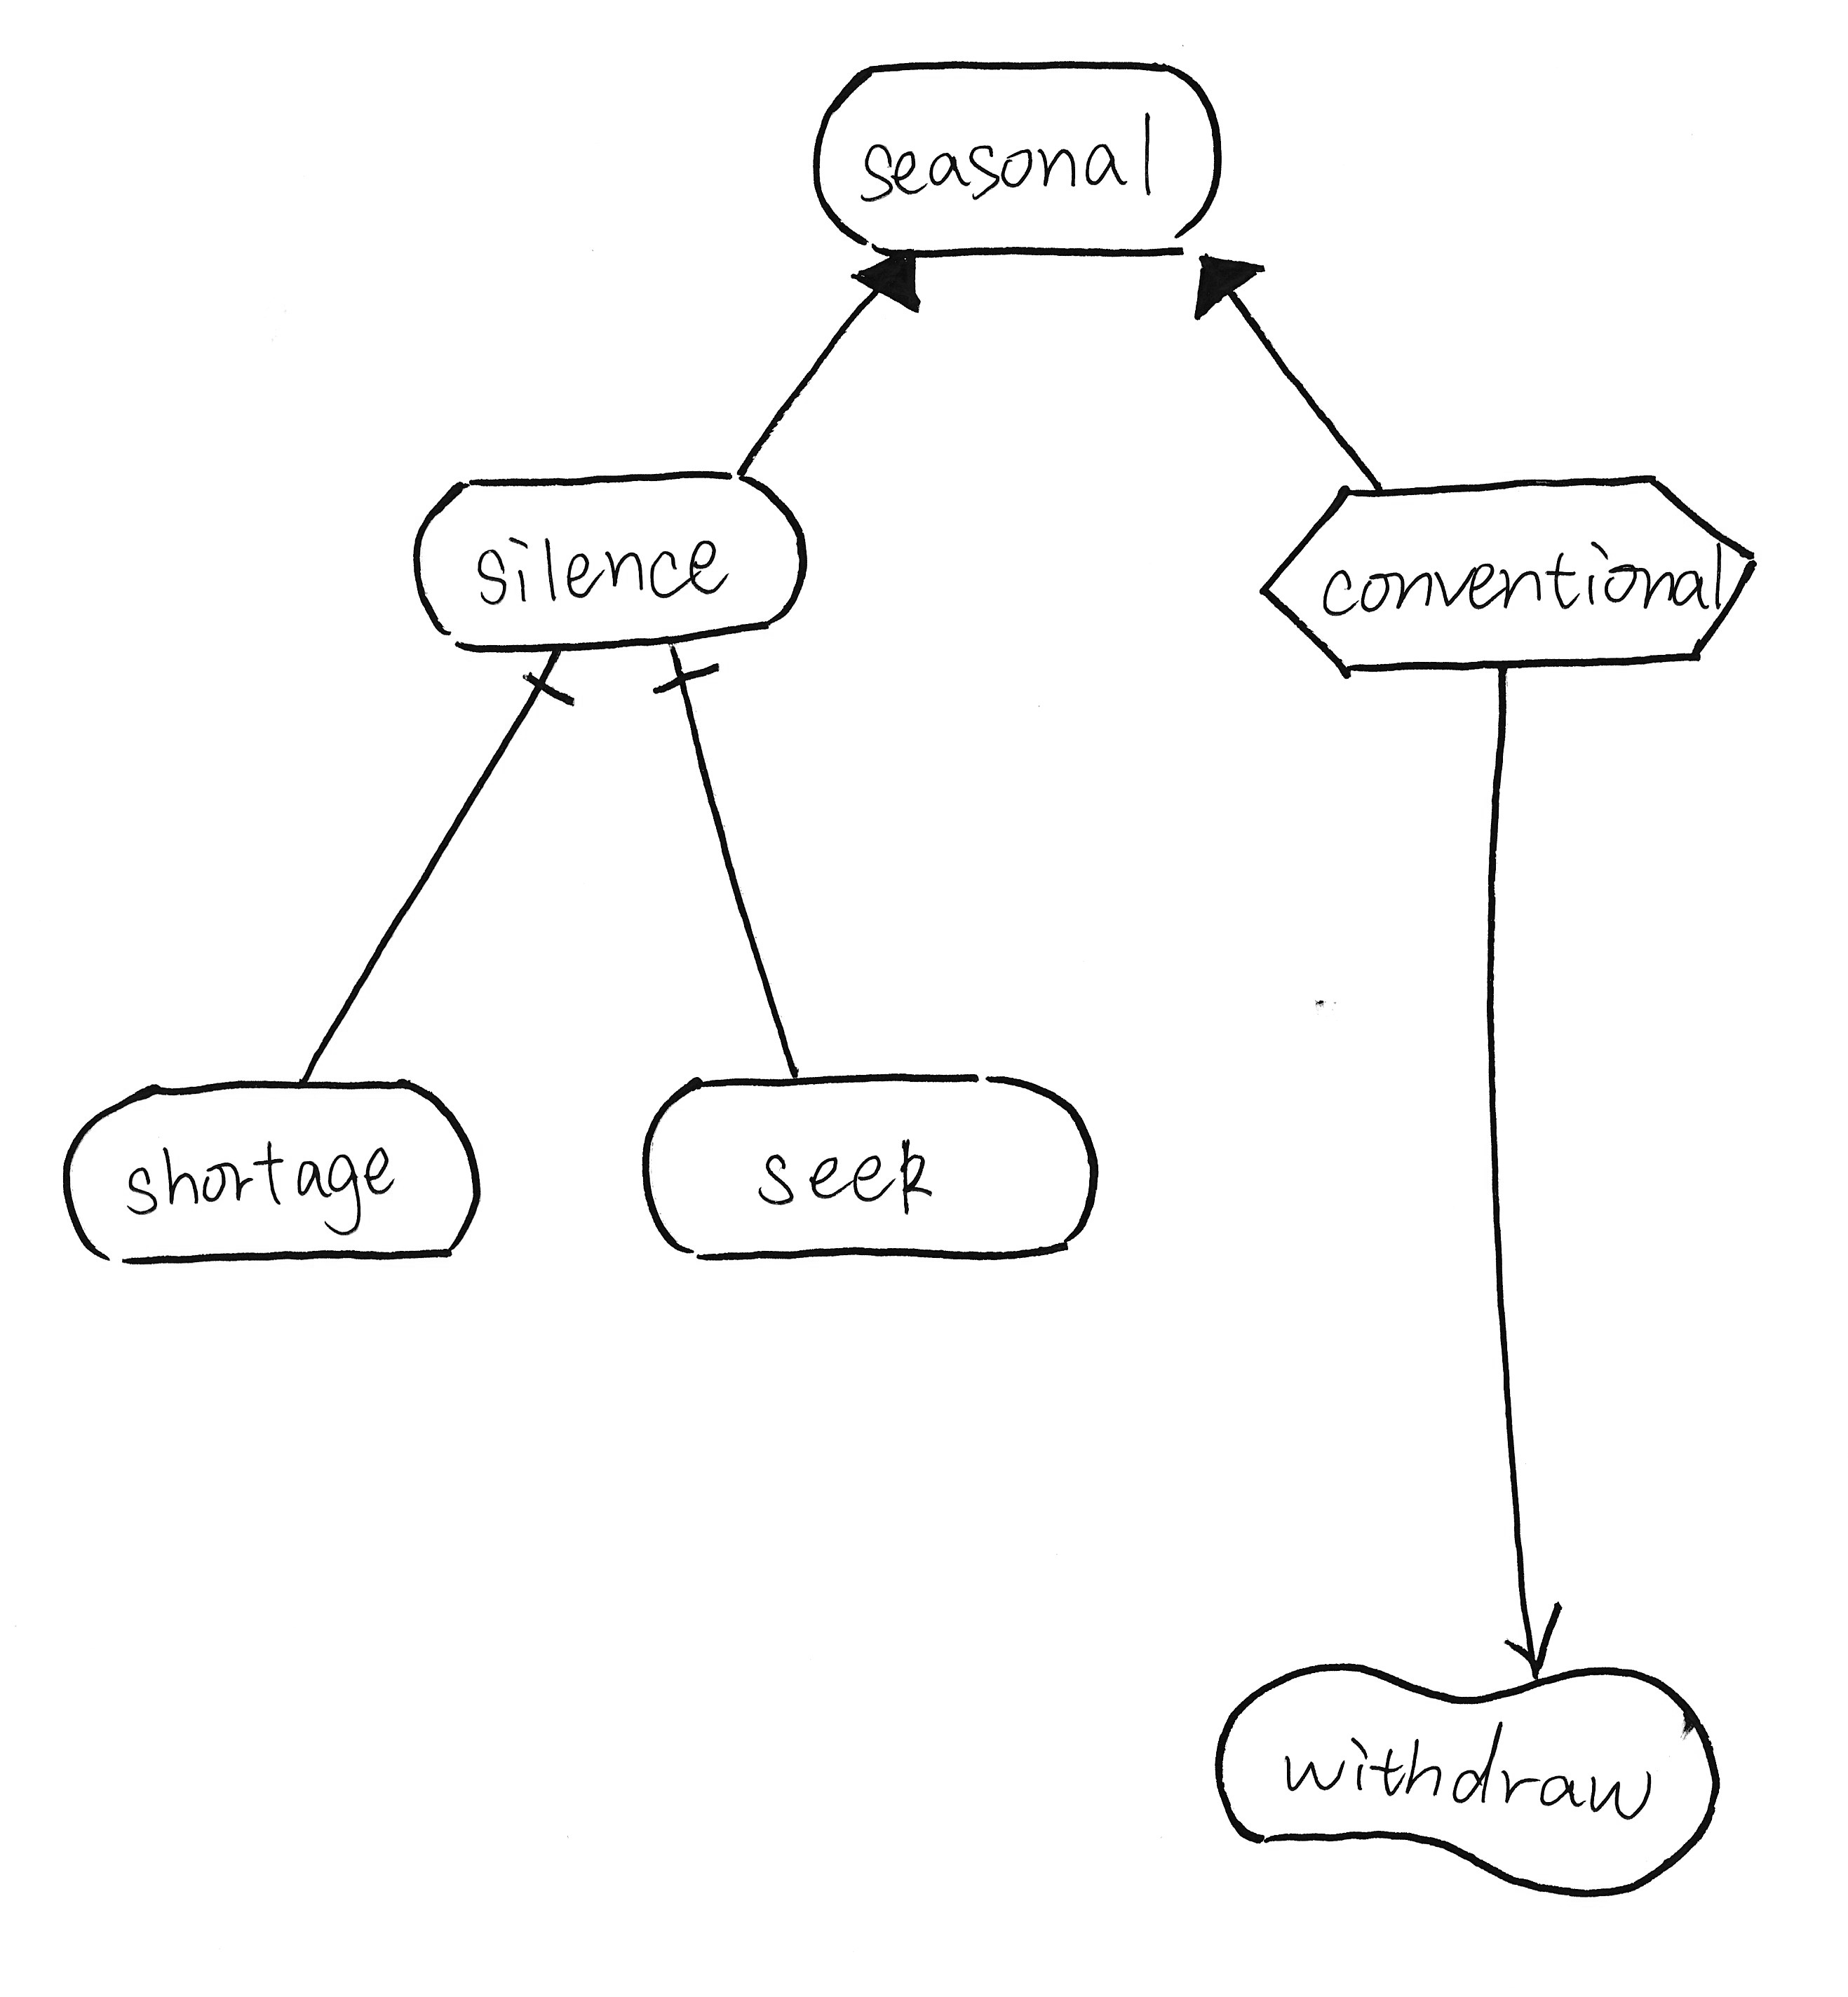and: (639, 638, 741, 722), (503, 644, 588, 731)
arrow: (1477, 1597, 1585, 1691)
goal: (623, 1056, 1114, 1284), (45, 1063, 503, 1289), (799, 40, 1235, 271), (400, 444, 823, 668)
or: (1180, 240, 1279, 334), (842, 245, 936, 332)
quality: (1199, 1640, 1735, 1919)
task: (1241, 458, 1784, 705)
